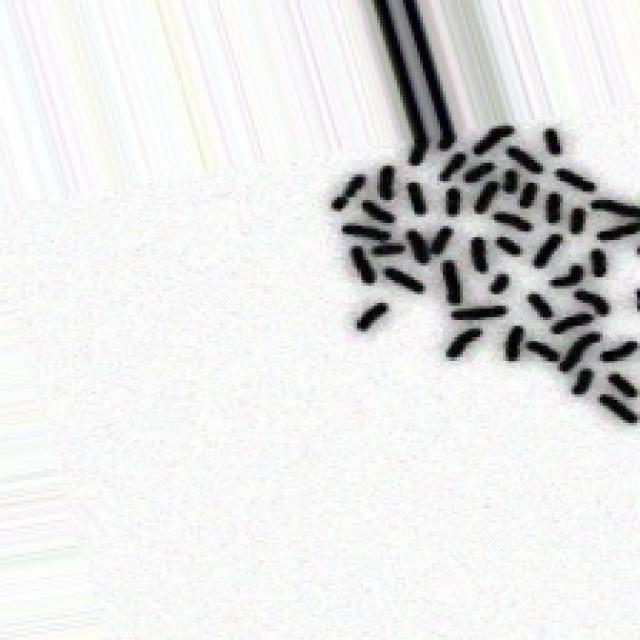Spiral_bacteria: (326, 117, 637, 426)
